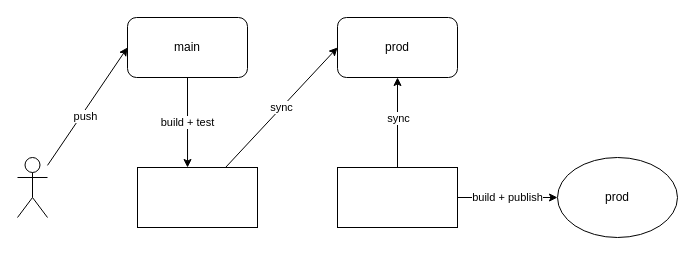
Image size: 695x255. Some labels were removed from this diagram. Each missing label, with the centre of its shape:
"Github actions" belongs at (197,197).
"Render.com" belongs at (397,197).
